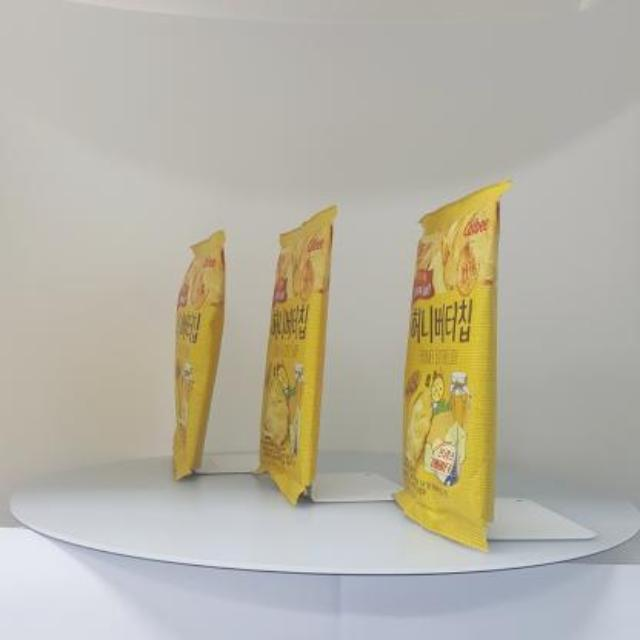snack_bag: (152, 173, 538, 563)
